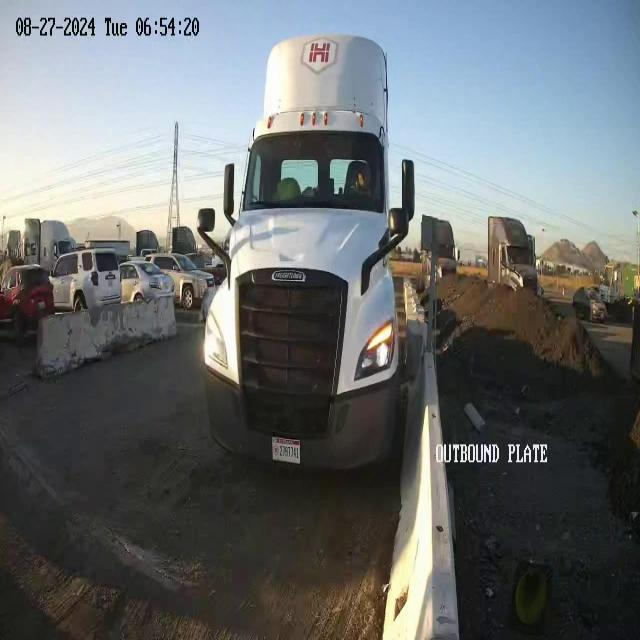TRUCK_OUT: (199, 32, 419, 476)
